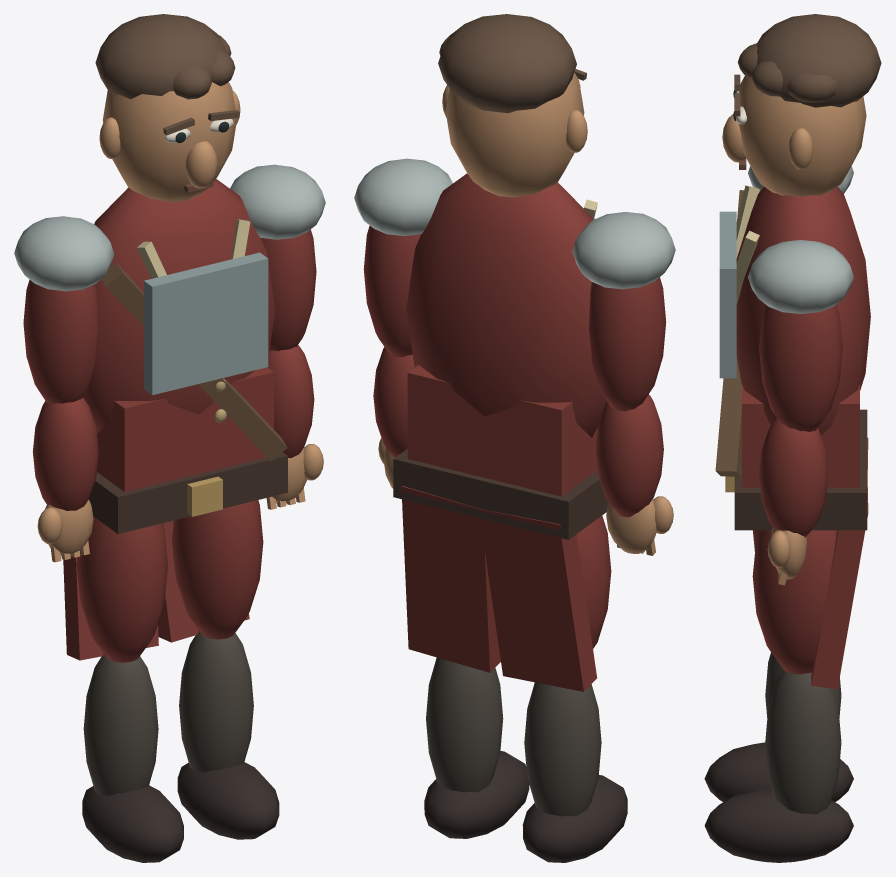
Rendered from dustbringer.glb.
The picture shows the model from 3 angles, left to right: view 1: azimuth 30°, elevation 25°; view 2: azimuth 150°, elevation 25°; view 3: azimuth 270°, elevation 25°; orthographic projection. The views are drawn at different scales.
Visible parts, largest first — view 1: radiant_2_stone, shin_and_foot_stone (×2), order_equipment_metal, face_and_hair_stone, thigh_stone (×2), forearm_and_fingers_stone (×2), upper_arm_stone (×2), split_cloth_stone, radiant_2_metal; view 2: radiant_2_stone, split_cloth_stone, shin_and_foot_stone (×2), face_and_hair_stone, upper_arm_stone (×2), forearm_and_fingers_stone (×2), order_equipment_metal, thigh_stone; view 3: radiant_2_stone, face_and_hair_stone, shin_and_foot_stone (×2), order_equipment_metal, upper_arm_stone, forearm_and_fingers_stone, thigh_stone, split_cloth_stone.
Boxes of the visible parts, bbox=[...] form: radiant_2_stone: bbox=[82, 179, 287, 533]; shin_and_foot_stone (×2): bbox=[82, 631, 279, 862]; order_equipment_metal: bbox=[14, 164, 325, 395]; face_and_hair_stone: bbox=[95, 14, 240, 202]; thigh_stone (×2): bbox=[76, 500, 263, 662]; forearm_and_fingers_stone (×2): bbox=[32, 345, 323, 562]; upper_arm_stone (×2): bbox=[23, 229, 316, 403]; split_cloth_stone: bbox=[63, 520, 249, 660]; radiant_2_metal: bbox=[187, 379, 226, 516]; radiant_2_stone: bbox=[393, 173, 607, 539]; split_cloth_stone: bbox=[401, 486, 596, 691]; shin_and_foot_stone (×2): bbox=[424, 657, 627, 862]; face_and_hair_stone: bbox=[438, 14, 587, 197]; upper_arm_stone (×2): bbox=[363, 225, 666, 411]; forearm_and_fingers_stone (×2): bbox=[373, 347, 673, 555]; order_equipment_metal: bbox=[354, 158, 675, 289]; thigh_stone: bbox=[576, 516, 611, 648]; radiant_2_stone: bbox=[715, 185, 870, 530]; face_and_hair_stone: bbox=[722, 14, 881, 196]; shin_and_foot_stone (×2): bbox=[704, 652, 853, 862]; order_equipment_metal: bbox=[719, 166, 853, 378]; upper_arm_stone: bbox=[759, 304, 842, 431]; forearm_and_fingers_stone: bbox=[759, 418, 828, 585]; thigh_stone: bbox=[752, 530, 836, 674]; split_cloth_stone: bbox=[811, 437, 868, 689].
Size of the model in its own units: 0.716 by 1.86 by 0.367.
